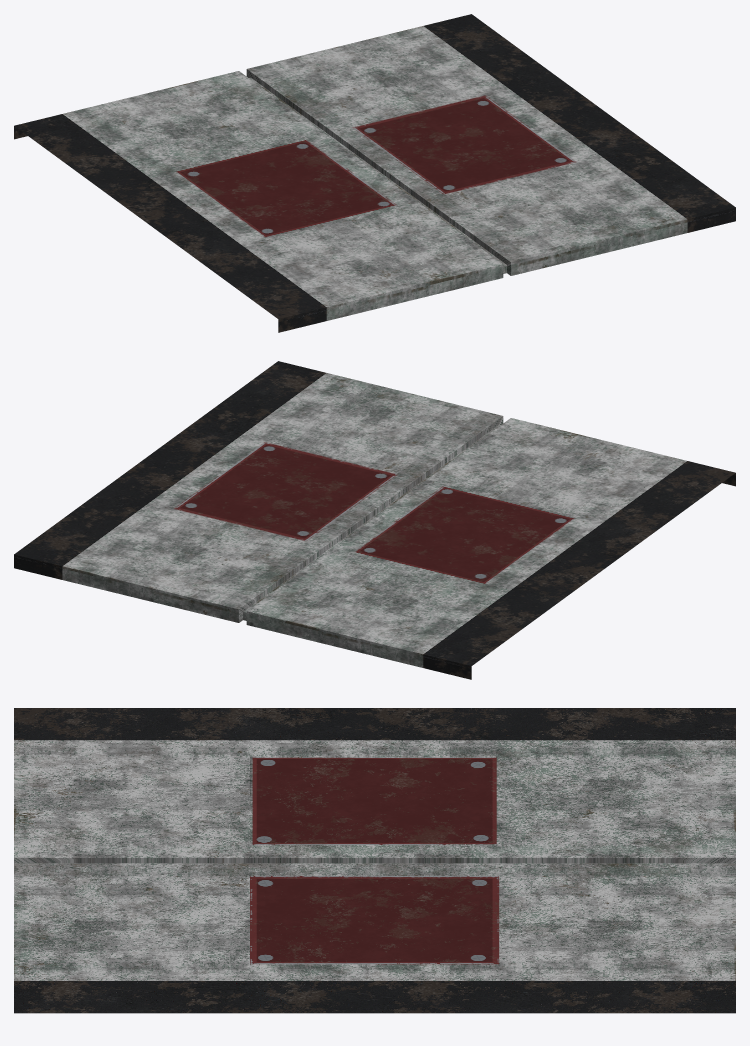
The model's file is road ver2.fbx.
3 renders of one model, top to bottom at view 1: azimuth 30°, elevation 25°; view 2: azimuth 150°, elevation 25°; view 3: azimuth 270°, elevation 25°, orthographic. The views are drawn at different scales.
Parts seen in each view (by area): view 1: pPlane1; view 2: pPlane1; view 3: pPlane1.
Boxes of the visible parts, bbox=[...] form: pPlane1: bbox=[14, 14, 735, 332]; pPlane1: bbox=[14, 361, 735, 679]; pPlane1: bbox=[14, 708, 735, 1013].
Bounding box in the file's own units: 1000 × 28.67 × 1000.
1 material, 1 textured.
